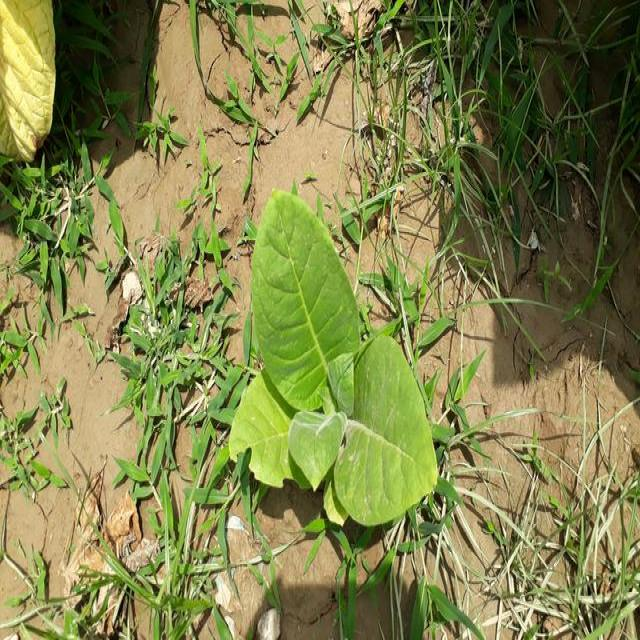crop: (229, 190, 439, 523), (5, 0, 55, 148)
